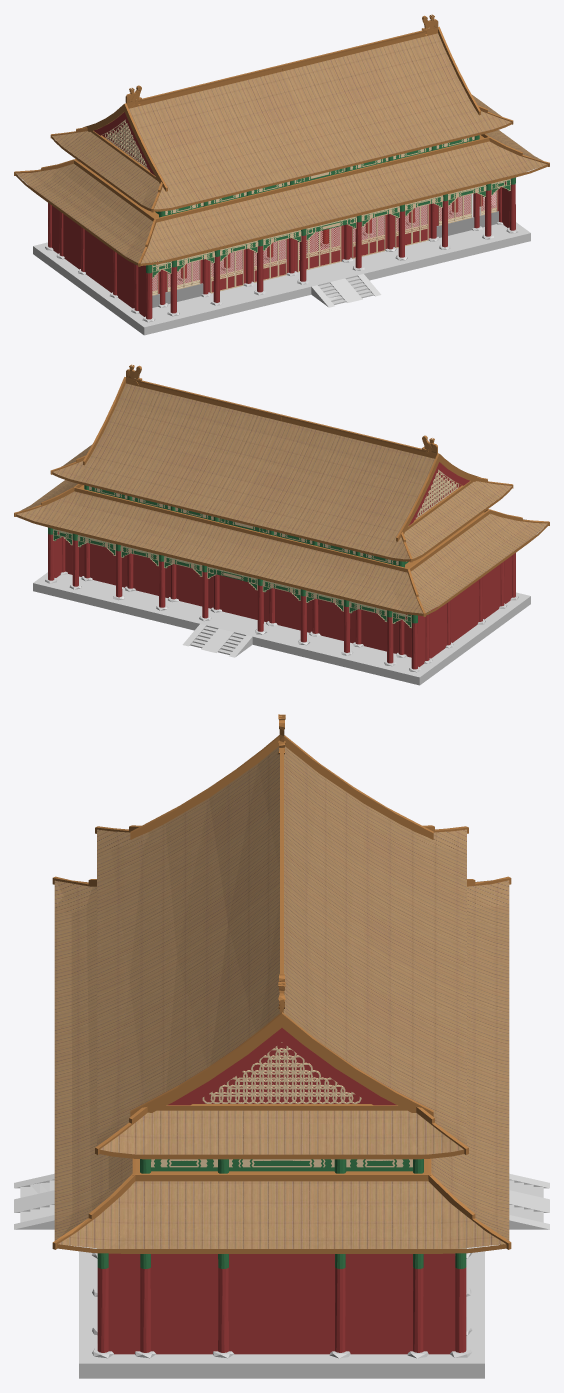
Rendered from 2019_08_08_135350_position_recolor.gltf.
3 views of the same model, one above another, from view 1: azimuth 30°, elevation 25°; view 2: azimuth 150°, elevation 25°; view 3: azimuth 270°, elevation 25° (orthographic). The views are drawn at different scales.
Parts seen in each view (by area): view 1: taihedian:PIV; view 2: taihedian:PIV; view 3: taihedian:PIV.
Boxes of the visible parts, x1,y1,x2,y2 form: taihedian:PIV: [14, 14, 549, 335]; taihedian:PIV: [14, 364, 549, 685]; taihedian:PIV: [14, 714, 549, 1378].
Size of what is drawn, in the model's own units: 99.77 by 45.57 by 61.59.
